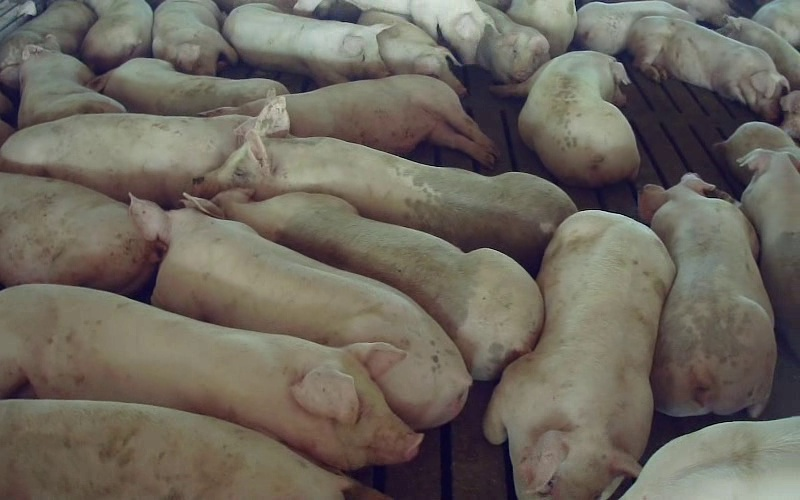pig: (129, 198, 471, 428), (185, 189, 543, 378), (190, 98, 575, 268), (484, 211, 674, 499), (640, 174, 776, 416), (0, 113, 245, 206), (491, 51, 639, 187), (627, 16, 789, 121), (222, 3, 389, 85), (738, 149, 799, 357), (90, 58, 287, 115), (18, 35, 125, 128), (350, 0, 493, 63), (358, 10, 464, 94), (574, 0, 694, 54), (152, 0, 237, 75), (476, 2, 549, 83), (80, 0, 152, 73)
